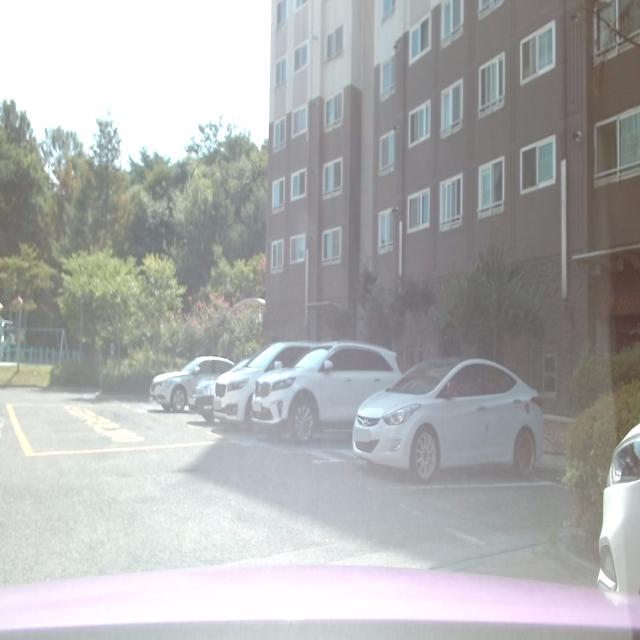empty: (416, 480, 581, 547)
occupied: (357, 356, 549, 464), (254, 344, 406, 441), (149, 350, 234, 410)
